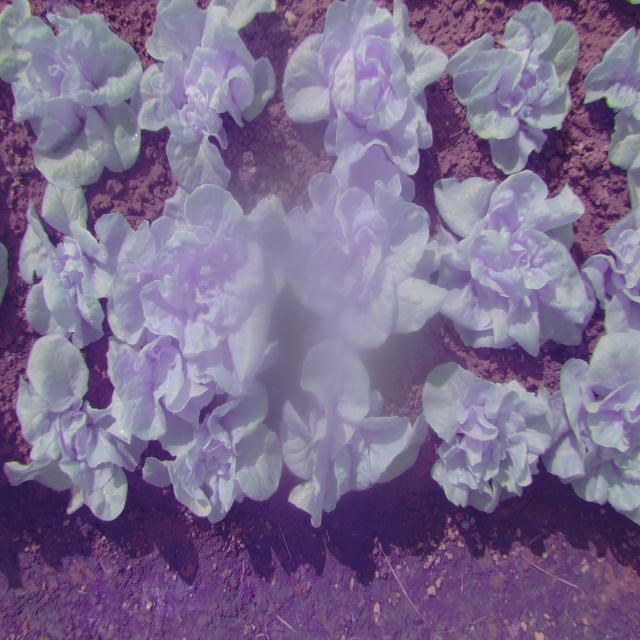vege: (125, 196, 294, 390), (286, 3, 442, 182), (137, 3, 279, 190), (449, 0, 588, 173), (417, 351, 556, 519)
